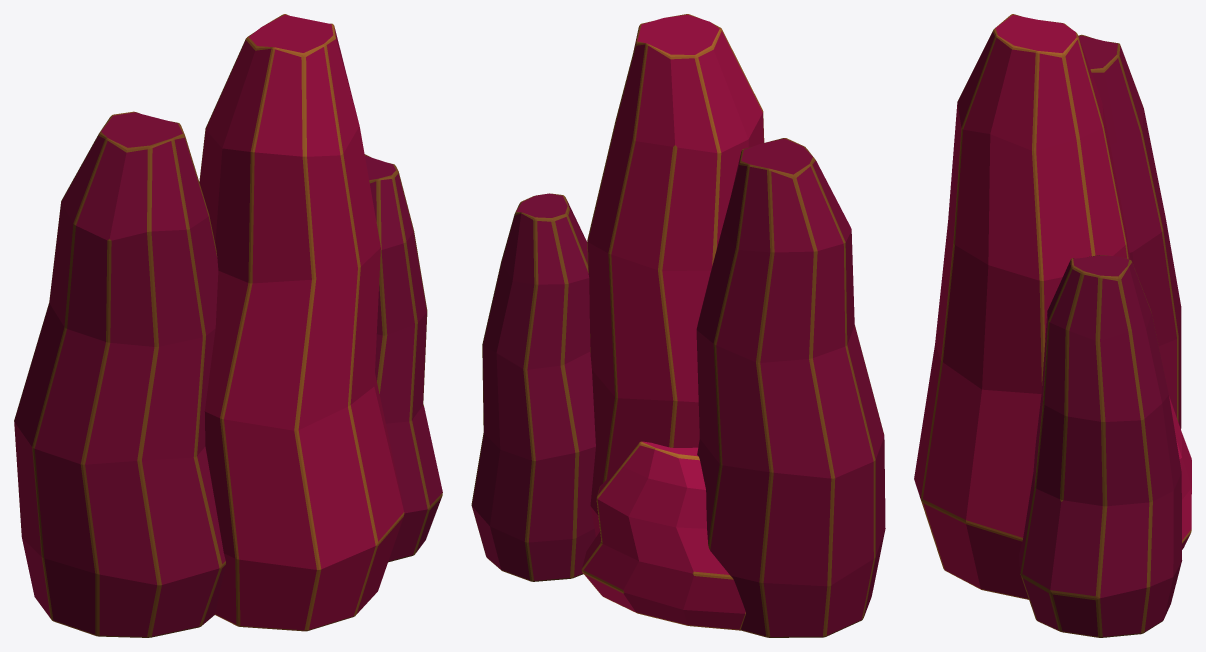
File: SM_RV_Cliff.fbx
3 renders of one model, left to right at view 1: azimuth 30°, elevation 25°; view 2: azimuth 150°, elevation 25°; view 3: azimuth 270°, elevation 25°, orthographic. The views are drawn at different scales.
Parts seen in each view (by area): view 1: SM_RV_Cliff; view 2: SM_RV_Cliff; view 3: SM_RV_Cliff.
Boxes of the visible parts, x1,y1,x2,y2 form: SM_RV_Cliff: (14,14,442,637); SM_RV_Cliff: (471,14,885,637); SM_RV_Cliff: (914,14,1191,637).
Size of the model in its own units: 590 by 959 by 1255.
